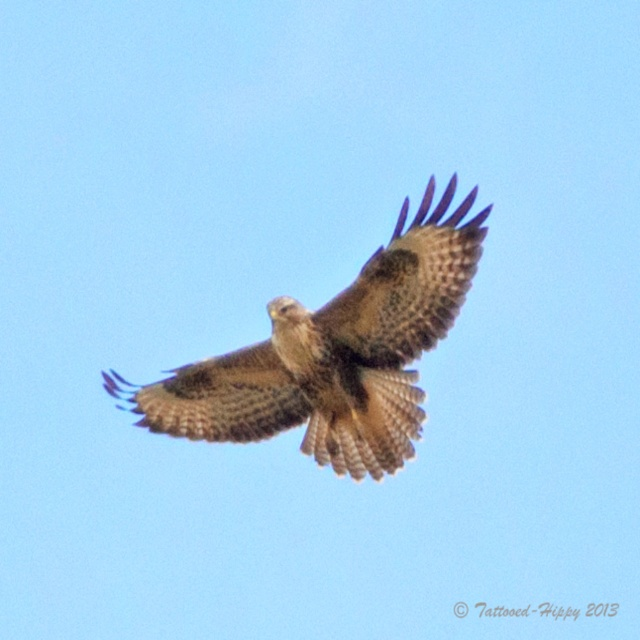Eagle: (102, 170, 493, 482)
